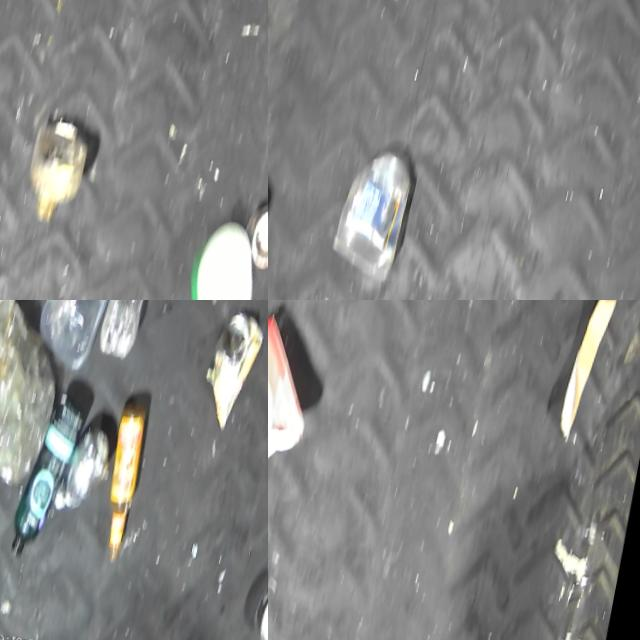can: (196, 309, 268, 440), (238, 203, 268, 279), (248, 578, 268, 640)
plastic_bottle: (91, 300, 182, 370)
